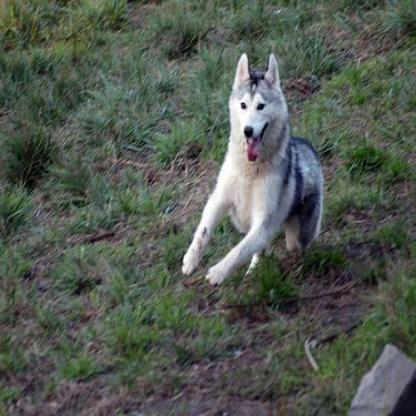Siberian_husky: (179, 45, 322, 284)
